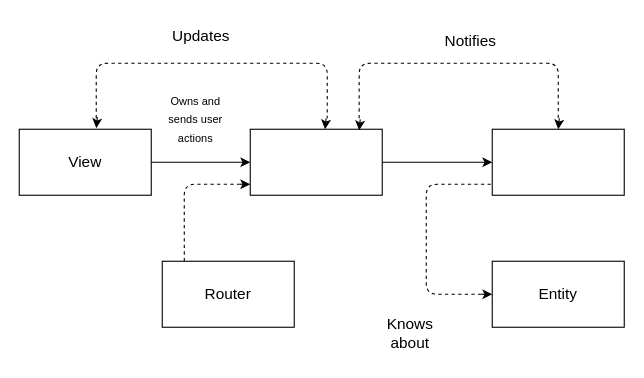
The diagram is 644 pixels wide and 378 high, and some of its shapes have lost their labels. The centre of each missing label's shape, as x and y in pixels:
"Interactor" belongs at (557,161).
"Presenter" belongs at (315,161).
